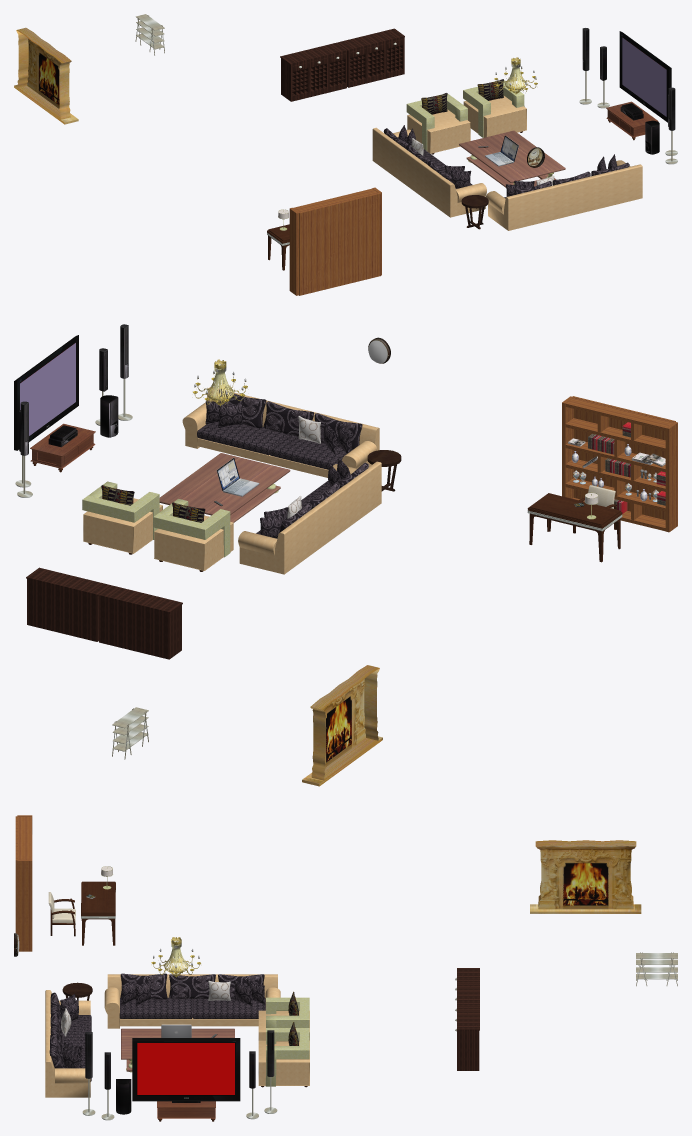
File: Parlor.FBX
The picture shows the model from 3 angles, top to bottom: view 1: azimuth 30°, elevation 25°; view 2: azimuth 150°, elevation 25°; view 3: azimuth 270°, elevation 25°; orthographic projection. The views are drawn at different scales.
Visible parts, largest first — view 1: Bookcase, Three Sofa02, Sony TV audio portfolio, Three Sofa, Fireplace, Wine cooler, Wine cooler02, Tea table, Armchair, Armchair02, Shoe rack, Living room lights (+6 smaller); view 2: Bookcase, Three Sofa02, Sony TV audio portfolio, Three Sofa, Fireplace, Wine cooler, Wine cooler02, Tea table, Armchair, Armchair02, lLiving room desk set, Shoe rack (+3 smaller); view 3: Three Sofa, Fireplace, mov, Sony TV audio portfolio, Three Sofa02, Armchair02, Bookcase, Wine cooler02, lLiving room desk set, Armchair, Tea table, Shoe rack (+4 smaller).
Part boxes in pixels (box(x1,y1,x2,y2)): Bookcase: box(289, 187, 381, 295); Three Sofa02: box(486, 160, 642, 230); Sony TV audio portfolio: box(579, 28, 671, 154); Three Sofa: box(372, 127, 486, 217); Fireplace: box(14, 27, 78, 124); Wine cooler: box(280, 42, 347, 101); Wine cooler02: box(337, 28, 404, 87); Tea table: box(459, 130, 565, 187); Armchair: box(406, 94, 470, 154); Armchair02: box(463, 80, 526, 137); Shoe rack: box(135, 14, 164, 55); Living room lights: box(494, 57, 537, 94); Bookcase: box(562, 396, 677, 532); Three Sofa02: box(182, 387, 379, 477); Sony TV audio portfolio: box(14, 335, 118, 497); Three Sofa: box(238, 461, 381, 574); Fireplace: box(302, 665, 382, 786); Wine cooler: box(98, 585, 182, 659); Wine cooler02: box(26, 567, 110, 641); Tea table: box(159, 453, 290, 522); Armchair: box(153, 498, 233, 571); Armchair02: box(82, 481, 162, 554); lLiving room desk set: box(527, 493, 622, 562); Shoe rack: box(112, 707, 148, 759); Three Sofa: box(104, 973, 280, 1028); Fireplace: box(530, 840, 641, 913); mov: box(137, 1043, 234, 1094); Sony TV audio portfolio: box(116, 1030, 277, 1121); Three Sofa02: box(45, 990, 91, 1097); Armchair02: box(258, 1028, 309, 1087); Bookcase: box(15, 815, 32, 951); Wine cooler02: box(455, 999, 479, 1070); lLiving room desk set: box(81, 881, 115, 945); Armchair: box(258, 997, 309, 1040); Tea table: box(121, 1028, 234, 1072); Shoe rack: box(636, 952, 677, 986).
Size of the model in its own units: 1145 by 291 by 1402.
